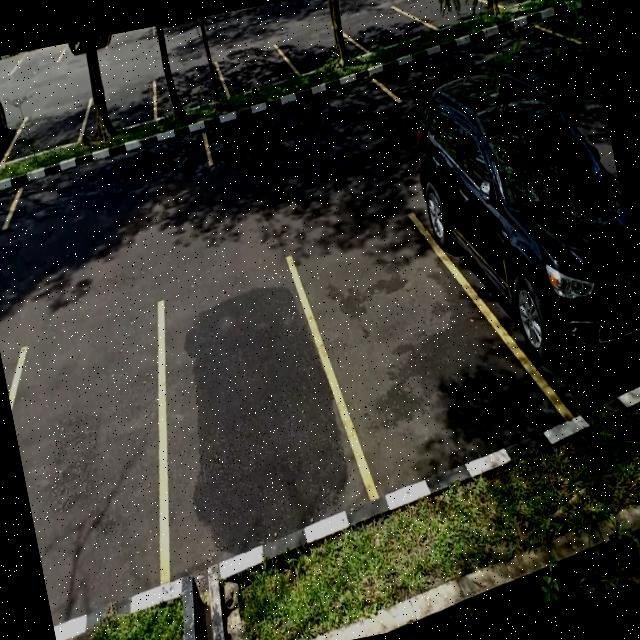empty: (131, 266, 356, 572), (299, 207, 513, 503), (0, 325, 190, 626), (0, 135, 219, 235), (201, 75, 402, 164), (5, 94, 99, 159), (78, 75, 164, 142), (148, 60, 230, 124), (215, 39, 295, 98), (345, 0, 421, 58), (284, 18, 360, 75)
occupied: (419, 104, 640, 434), (0, 82, 18, 177)
